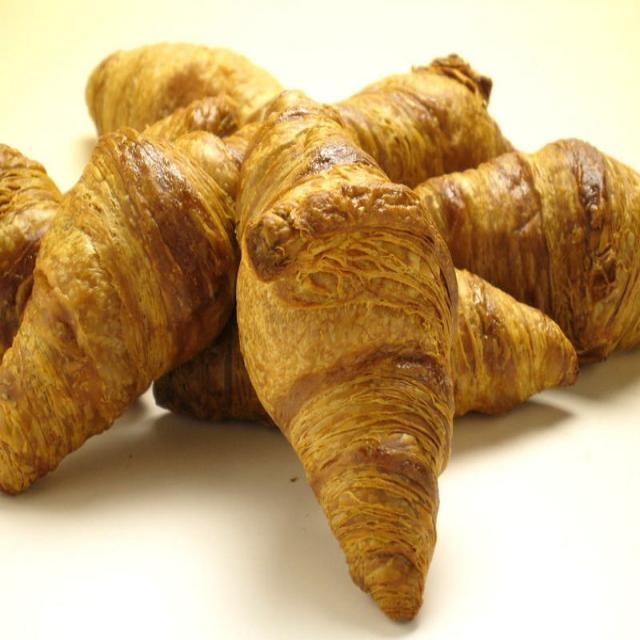Croissant: (220, 68, 466, 636)
